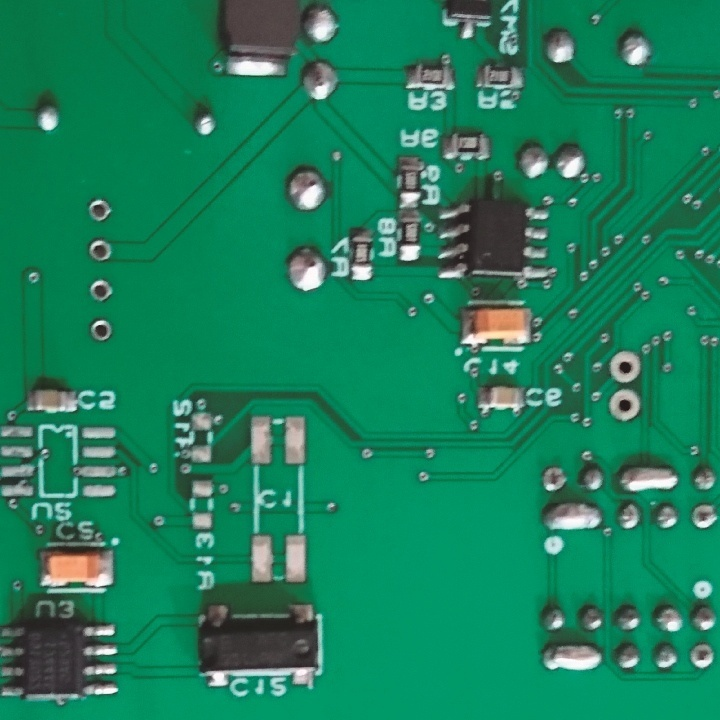F: (607, 386, 639, 422), (609, 350, 640, 383), (690, 501, 719, 531), (690, 640, 717, 672), (84, 195, 113, 224), (541, 462, 567, 492), (88, 276, 113, 306), (88, 237, 114, 264), (89, 318, 113, 343)
P: (541, 497, 602, 533), (541, 640, 602, 675), (615, 465, 681, 495)
